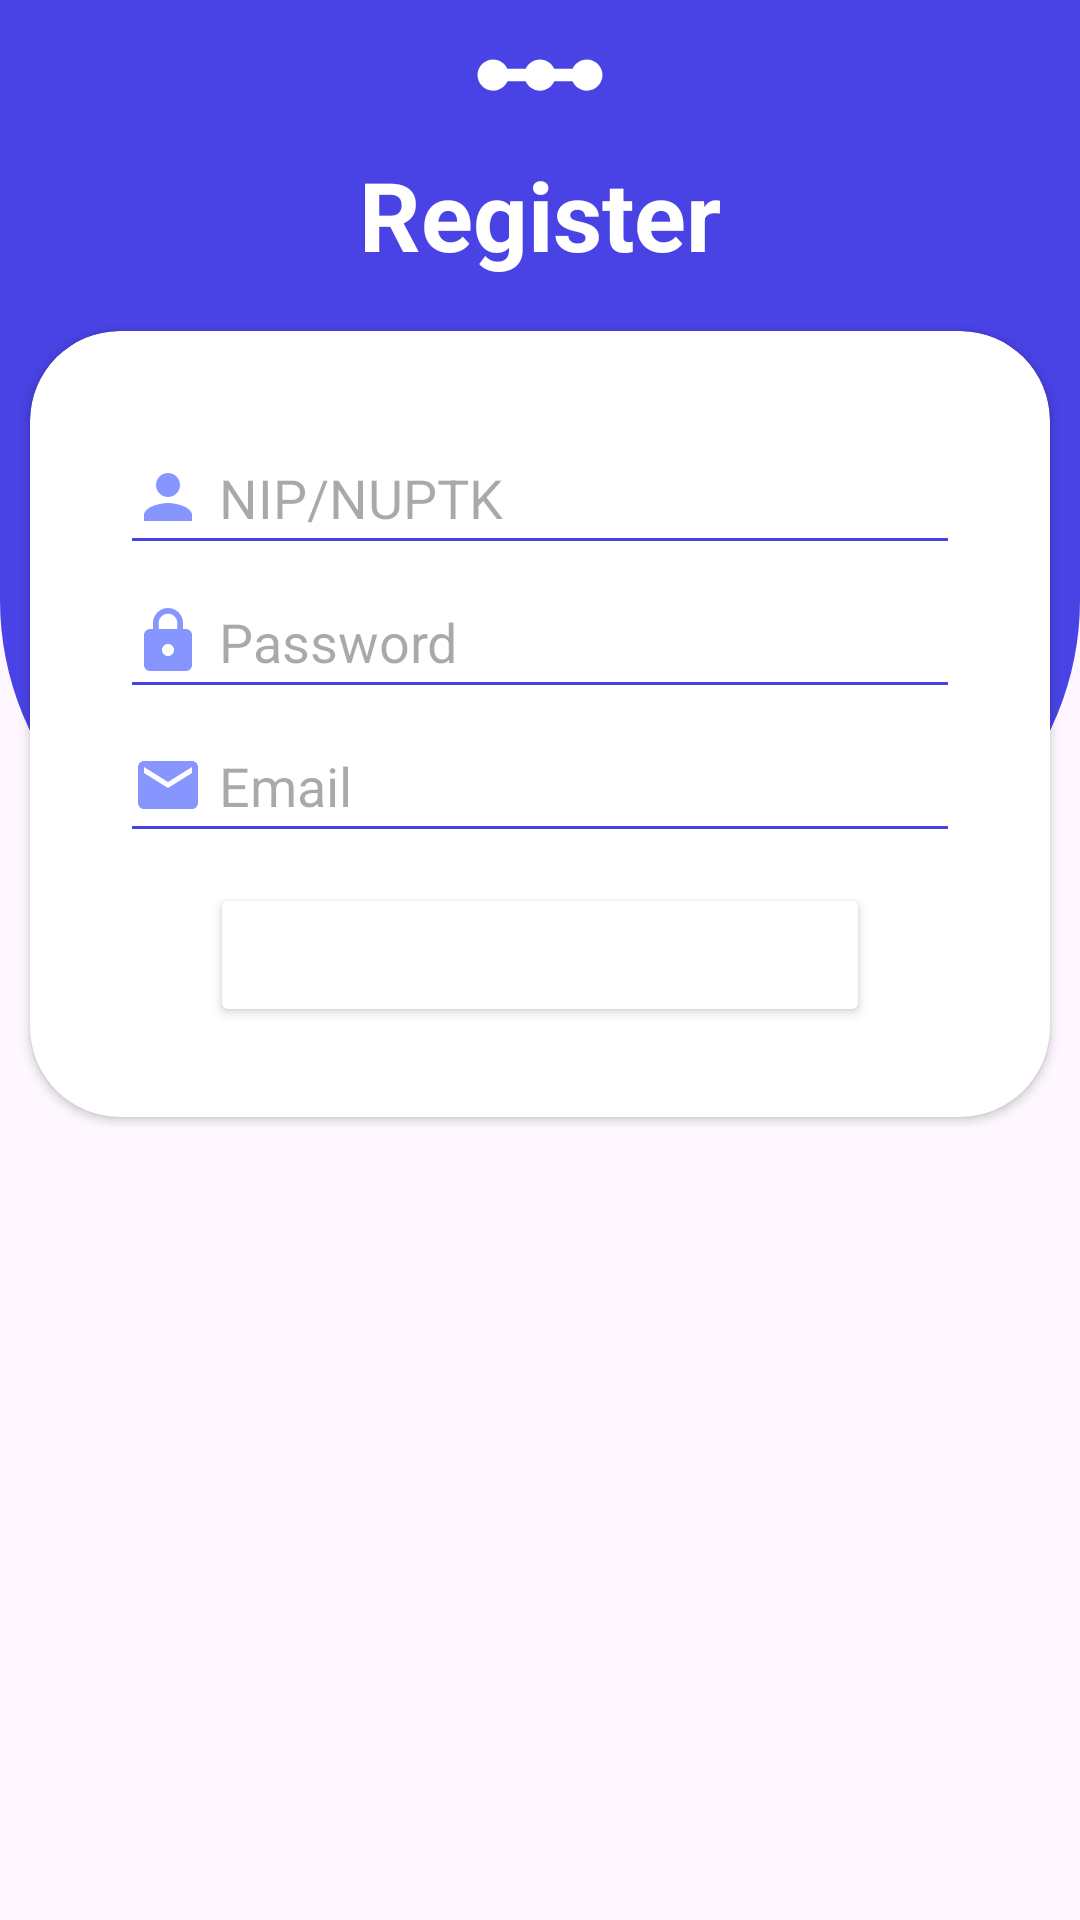

Where to tap for icons on this 1080 x 1920 app screen, as (x=x, y=y):
linear scale: (x=540, y=75)
